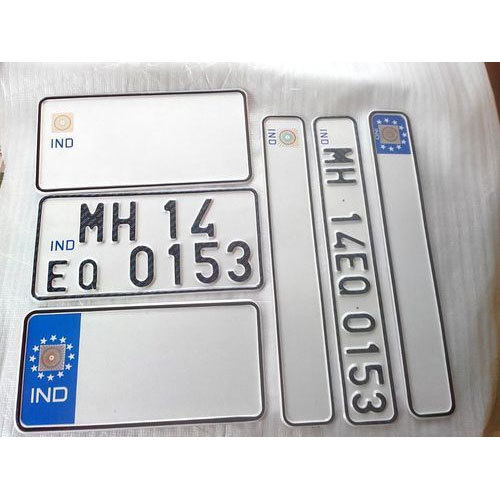number_plate: (313, 113, 400, 427), (30, 189, 263, 295)
